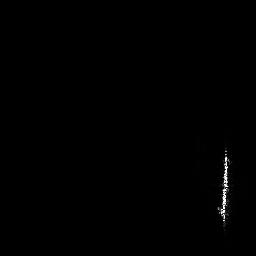ship: (217, 145, 232, 229)
